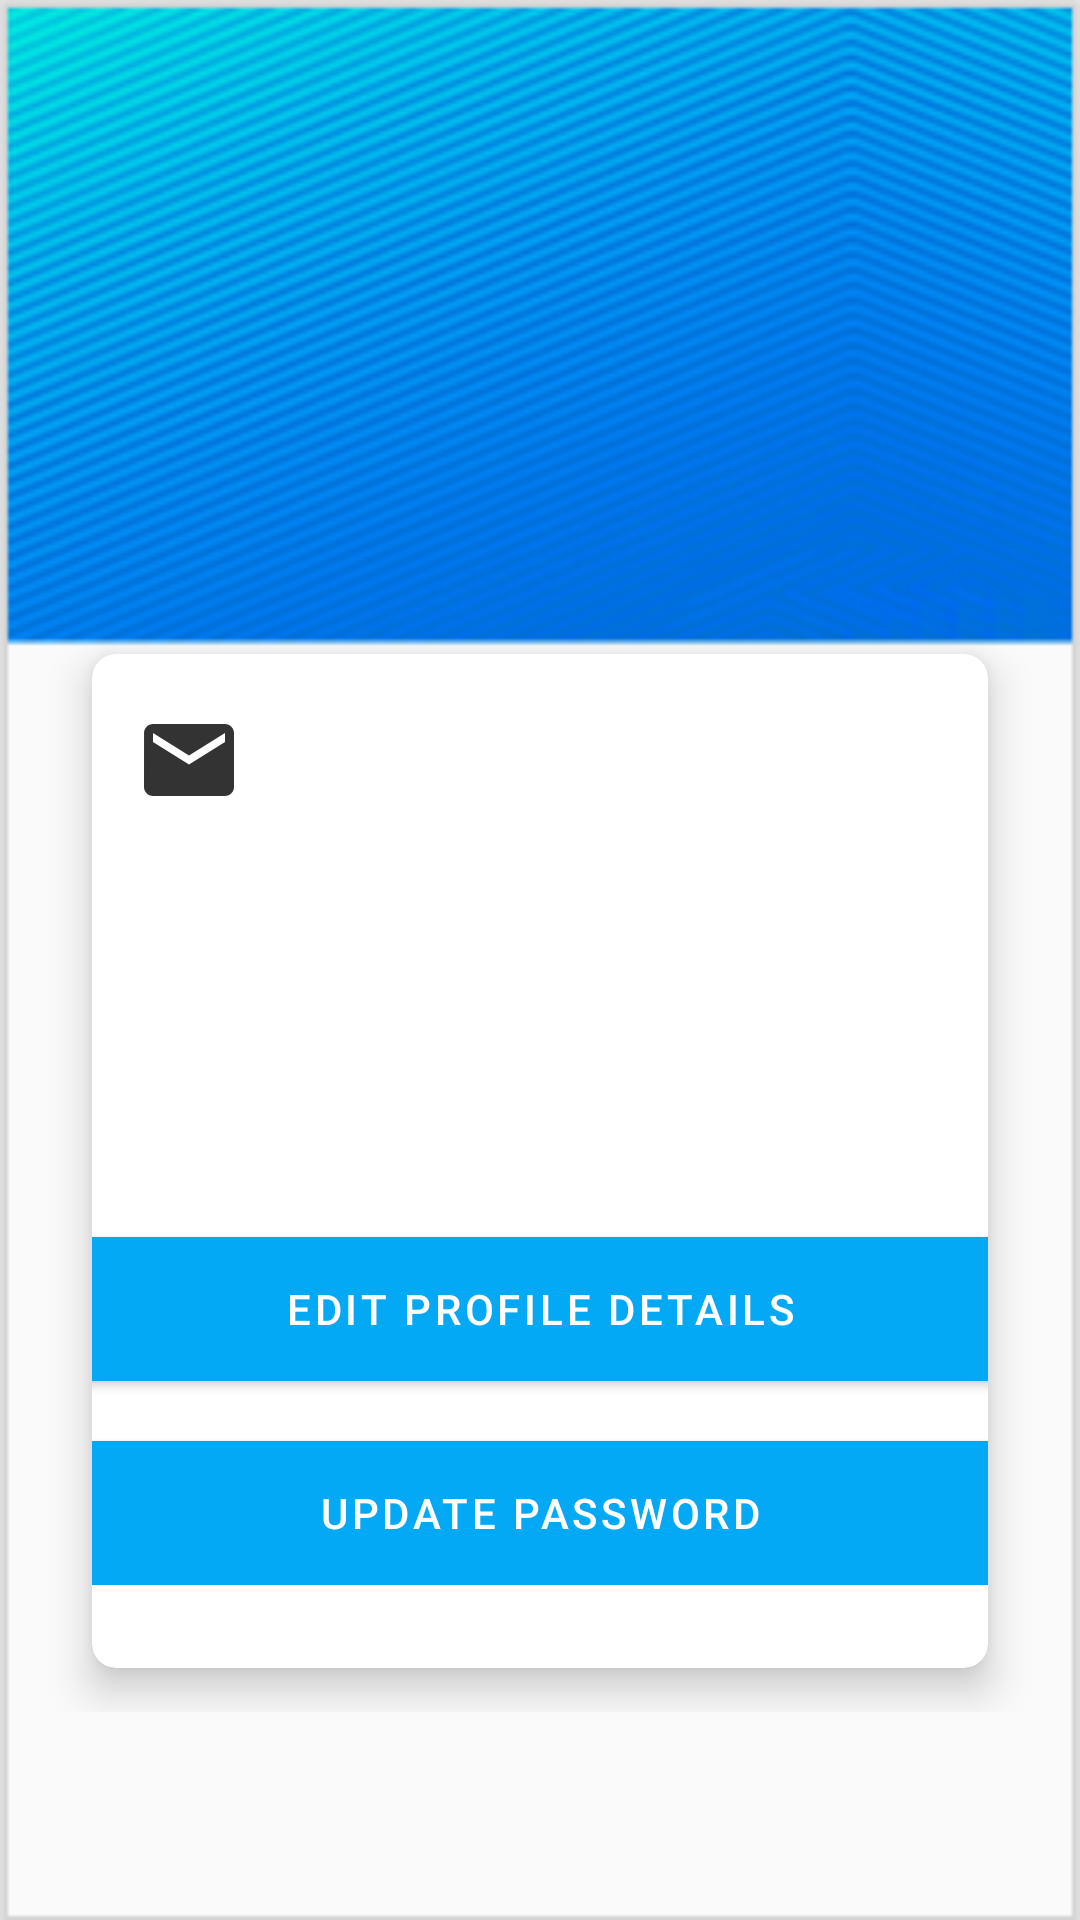

Locate icon controls on the screen. Image size 1080×1920, boxes as (x1, y1, x2, y2).
email: (144, 724, 234, 796)
